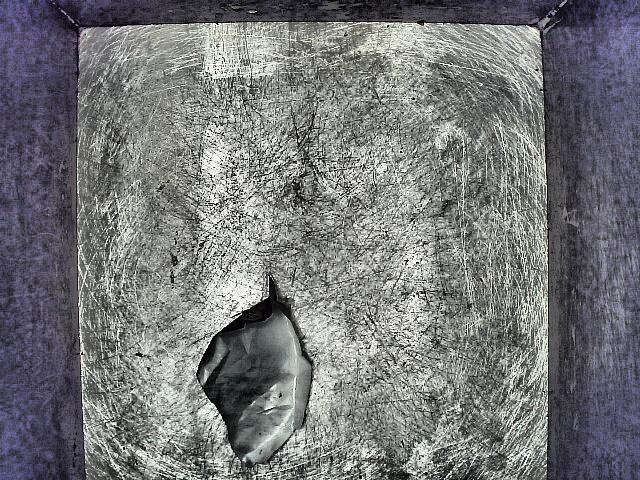Plastic: (160, 270, 341, 472)
